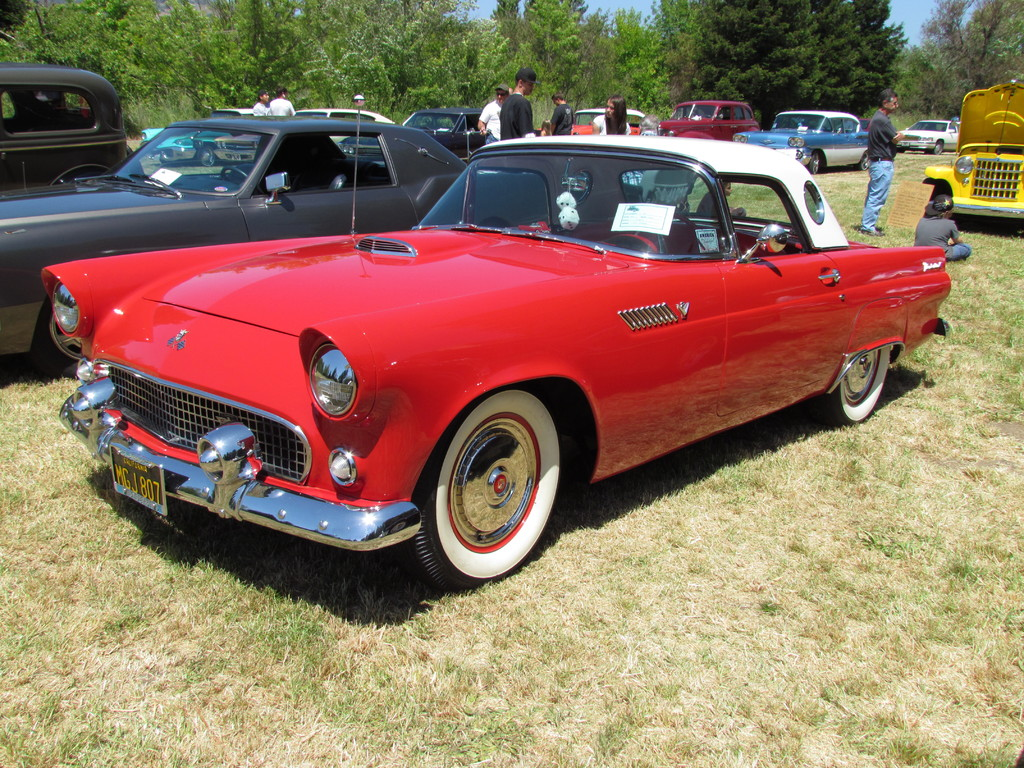Car: (39, 136, 950, 591), (0, 119, 467, 378), (732, 112, 869, 172), (296, 106, 393, 159), (401, 109, 482, 161), (658, 101, 761, 135), (895, 119, 960, 156), (568, 106, 645, 135), (214, 110, 254, 115)
